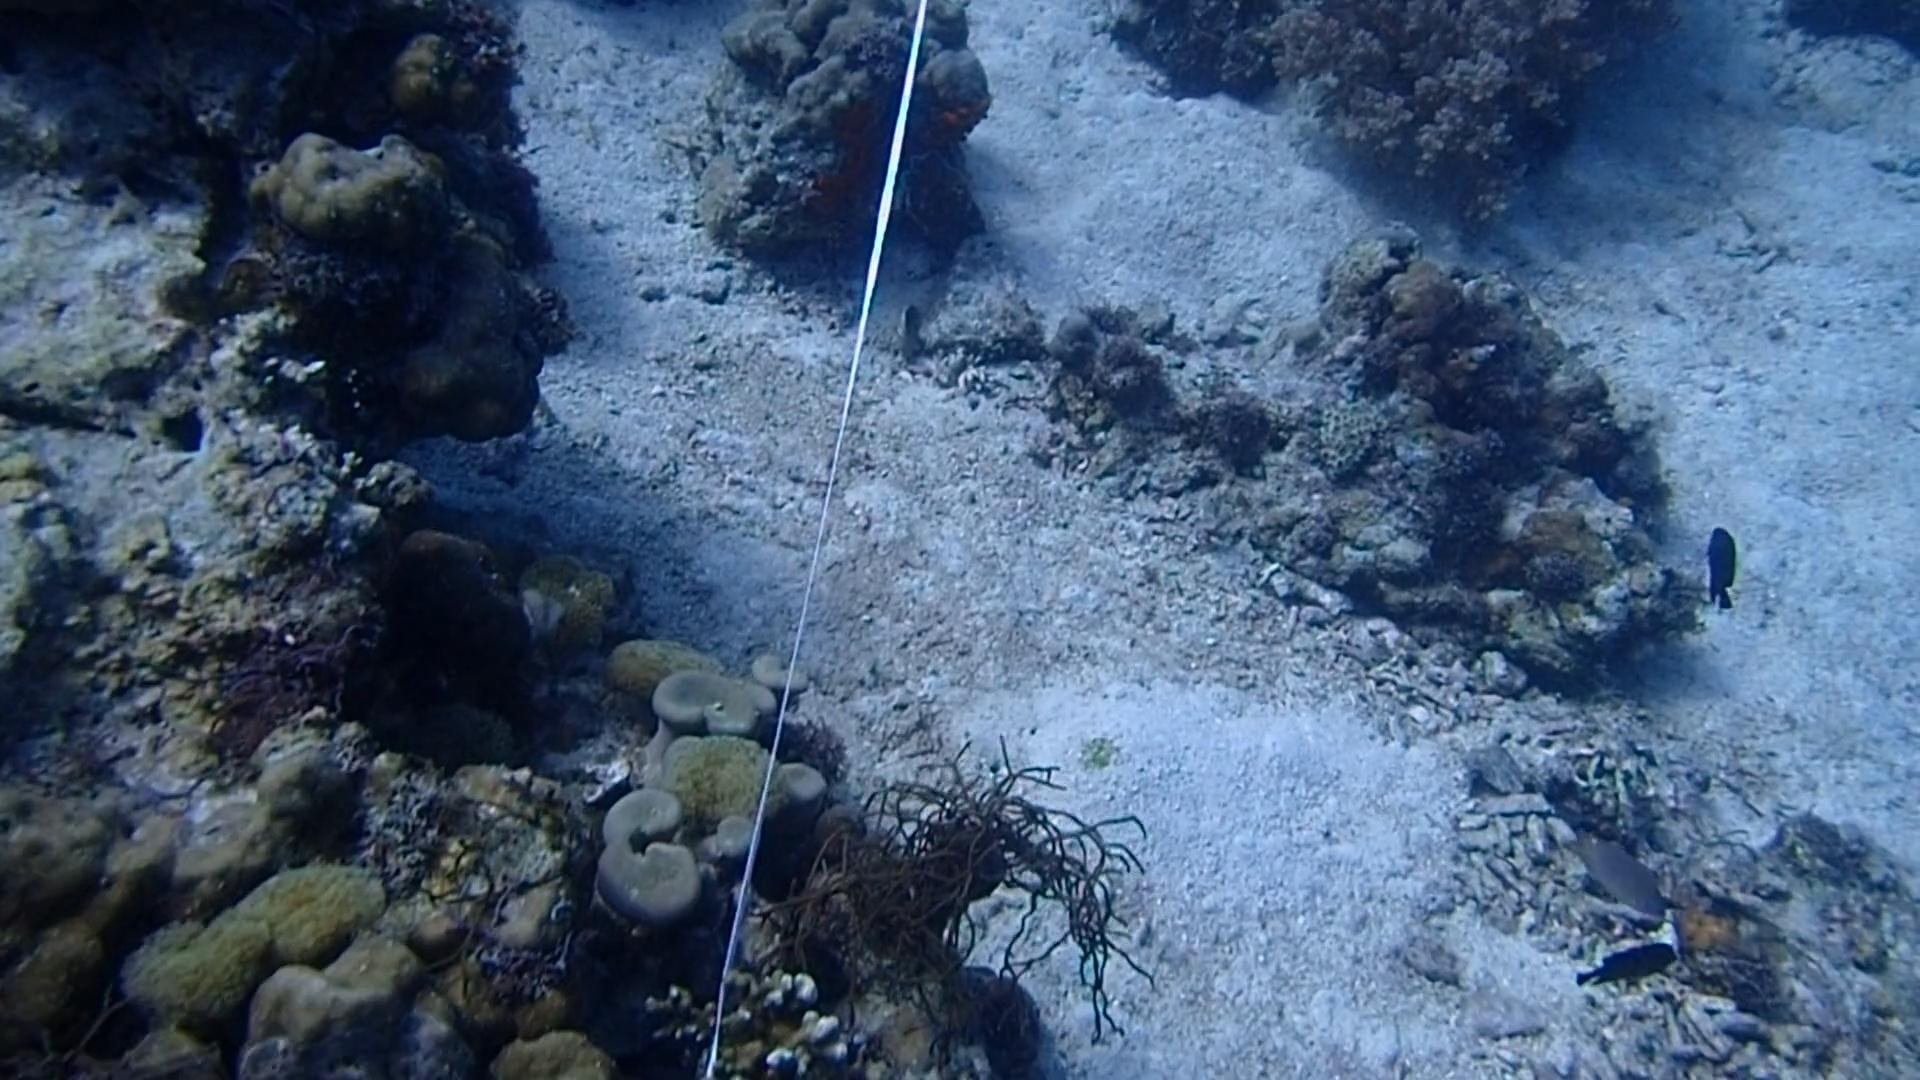Dark Fish: (1569, 936, 1697, 1005), (1692, 521, 1759, 621)
Light Fish: (1563, 820, 1677, 920)
